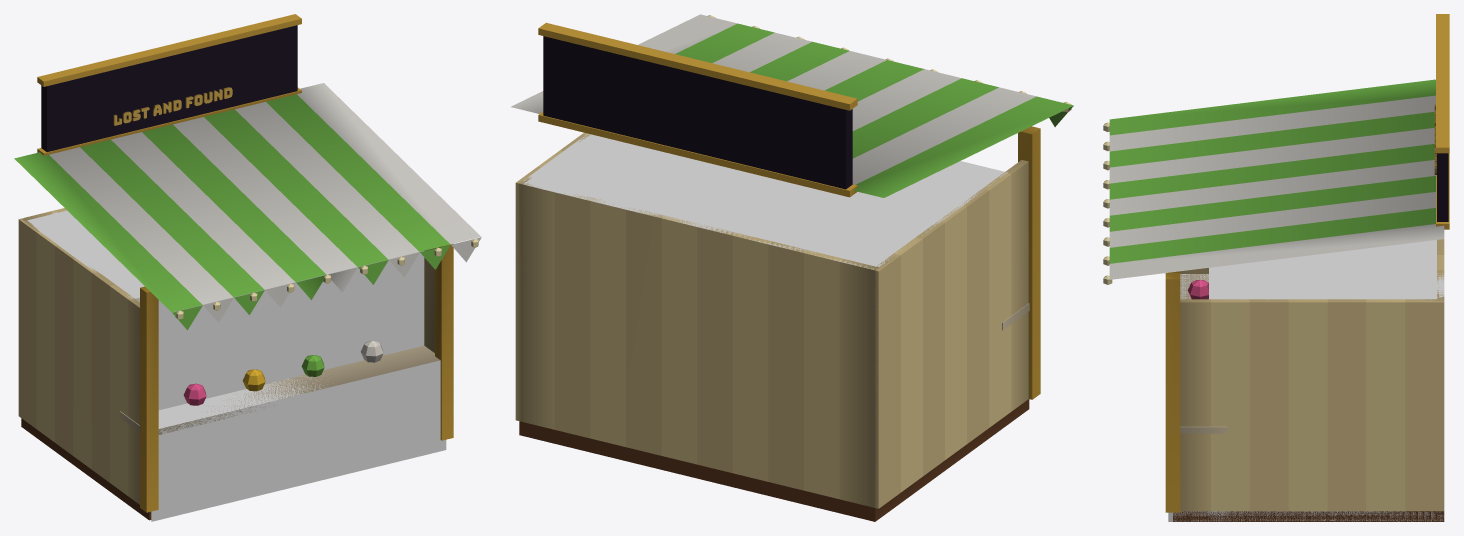
The model's file is c_stall_info.glb.
3 renders of one model, left to right at view 1: azimuth 30°, elevation 25°; view 2: azimuth 150°, elevation 25°; view 3: azimuth 270°, elevation 25°, orthographic. The views are drawn at different scales.
Visible parts, largest first — view 1: c_stall_info, COL_1, COL_0; view 2: c_stall_info, COL_0; view 3: c_stall_info, COL_0, COL_1.
Part boxes in pixels (x1=…): c_stall_info: x1=14, y1=14, x2=481, y2=520; COL_1: x1=151, y1=360, x2=446, y2=521; COL_0: x1=21, y1=210, x2=424, y2=410; c_stall_info: x1=511, y1=14, x2=1073, y2=521; COL_0: x1=522, y1=134, x2=1007, y2=269; c_stall_info: x1=1103, y1=14, x2=1449, y2=521; COL_0: x1=1209, y1=240, x2=1444, y2=521; COL_1: x1=1168, y1=274, x2=1227, y2=521.
Size of the model in its own units: 4.2 by 4.45 by 3.83.
